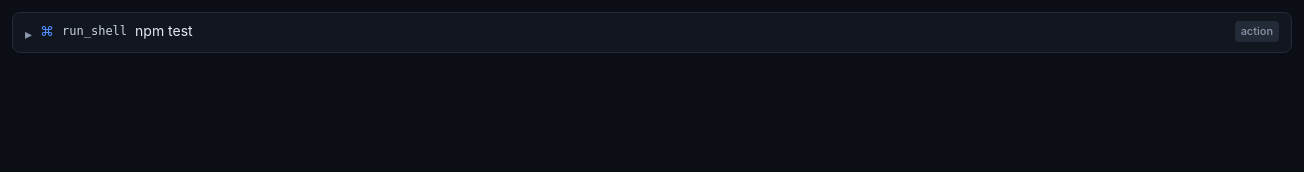
Test case: Timeline › renders action cards that expand to show arguments
The image size is (1304, 172).
Step 1. Click the button → click(95, 31), box [13,13,1291,52]
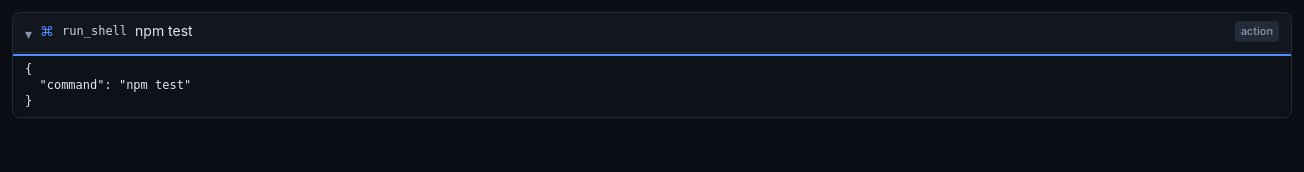
Now the text "{ \"command\": \"npm test\" }" is shown, box [25,62,191,108]
